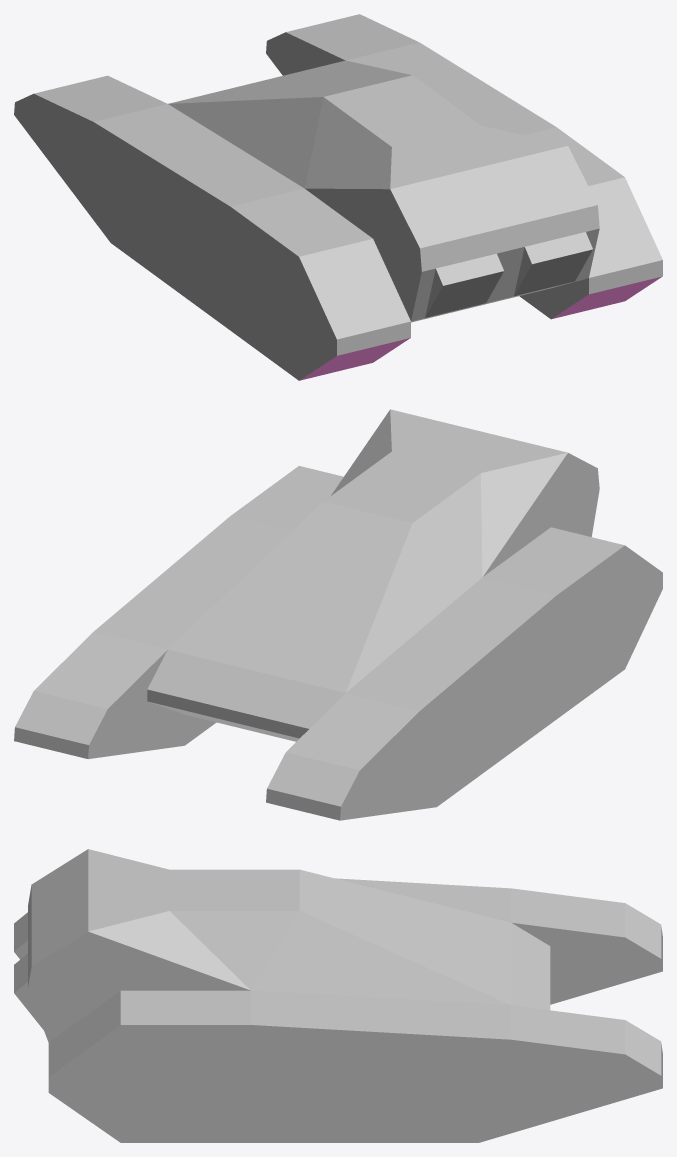
3 renders of one model, top to bottom at view 1: azimuth 30°, elevation 25°; view 2: azimuth 150°, elevation 25°; view 3: azimuth 270°, elevation 25°, orthographic. The views are drawn at different scales.
Visible parts, largest first — view 1: hull; view 2: hull; view 3: hull.
Part boxes in pixels (x1,y1,x2,y2): hull: [14, 14, 662, 380]; hull: [14, 409, 662, 820]; hull: [14, 849, 662, 1142].
Bounding box in the file's own units: 363 × 198 × 658.
